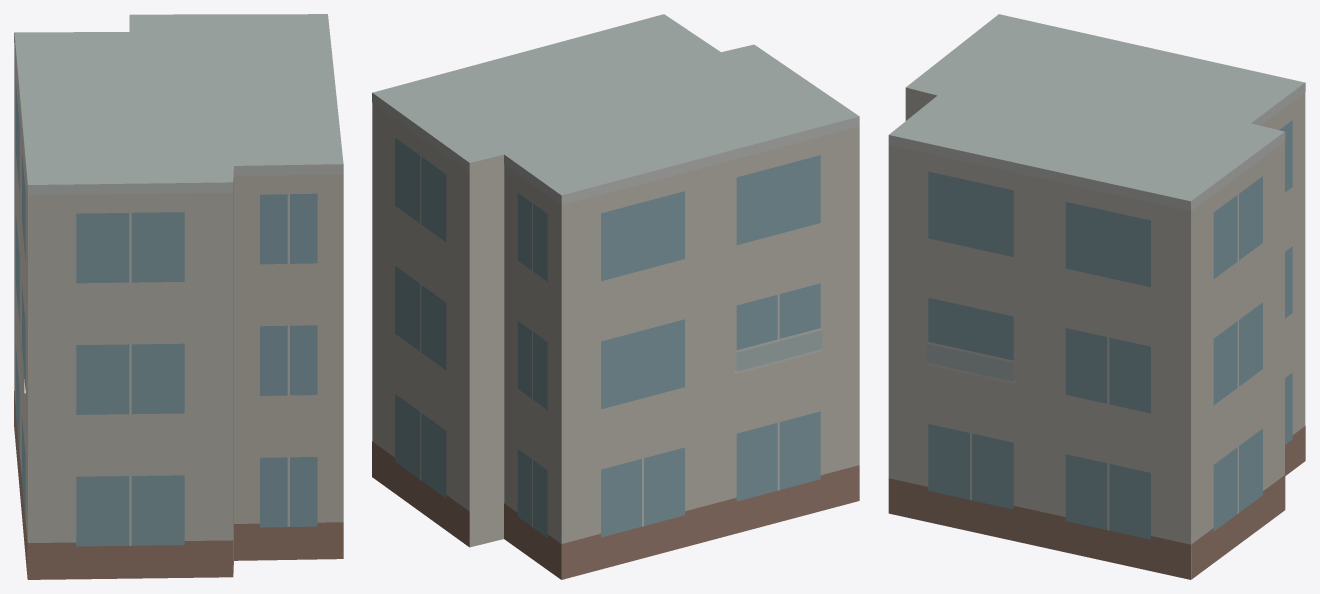
File: survey-upis-32495103.glb
The picture shows the model from 3 angles, left to right: view 1: azimuth 30°, elevation 25°; view 2: azimuth 150°, elevation 25°; view 3: azimuth 270°, elevation 25°; orthographic projection. The views are drawn at different scales.
Parts seen in each view (by area): view 1: survey-upis-32495103.tmp; view 2: survey-upis-32495103.tmp; view 3: survey-upis-32495103.tmp.
Boxes of the visible parts, <box> form: survey-upis-32495103.tmp: <box>14,14,343,579</box>; survey-upis-32495103.tmp: <box>372,14,859,579</box>; survey-upis-32495103.tmp: <box>888,14,1305,579</box>.
Bounding box in the file's own units: 10.04 × 9.45 × 9.44.
